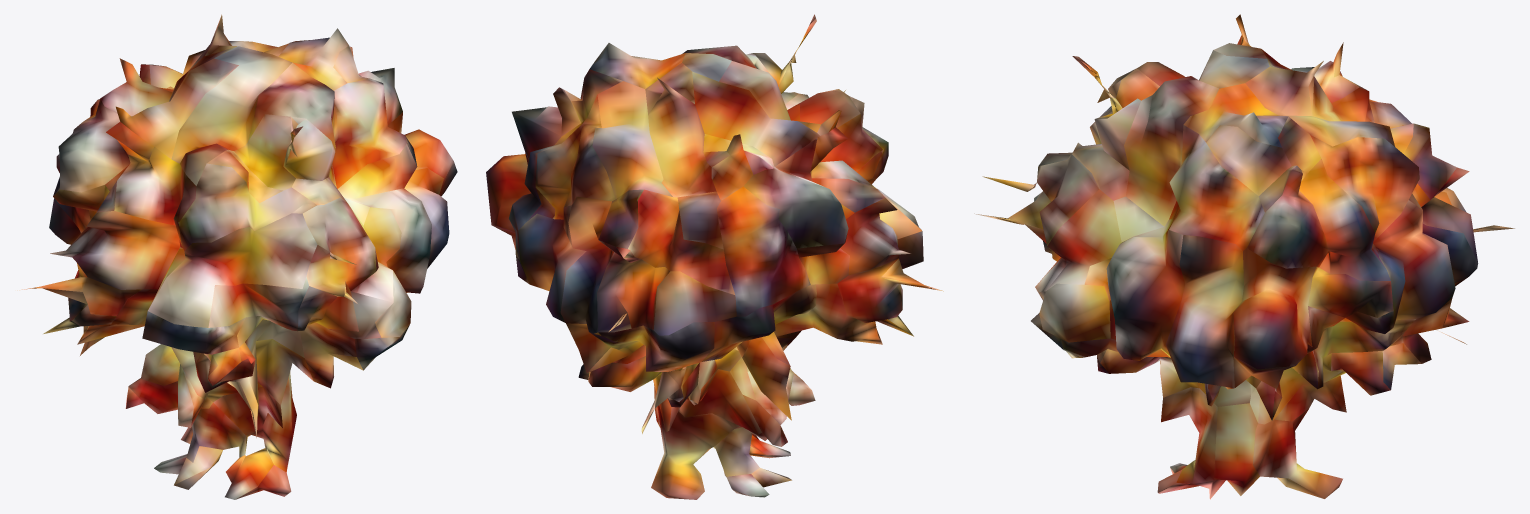
3 renders of one model, left to right at view 1: azimuth 30°, elevation 25°; view 2: azimuth 150°, elevation 25°; view 3: azimuth 270°, elevation 25°, orthographic. The views are drawn at different scales.
Visible parts, largest first — view 1: Object_4; view 2: Object_4; view 3: Object_4.
Boxes of the visible parts, x1,y1,x2,y2 form: Object_4: (17,14,457,499); Object_4: (486,14,943,499); Object_4: (974,14,1514,499).
Size of the model in its own units: 0.7795 by 0.6961 by 0.7736.
1 material, 1 textured.
